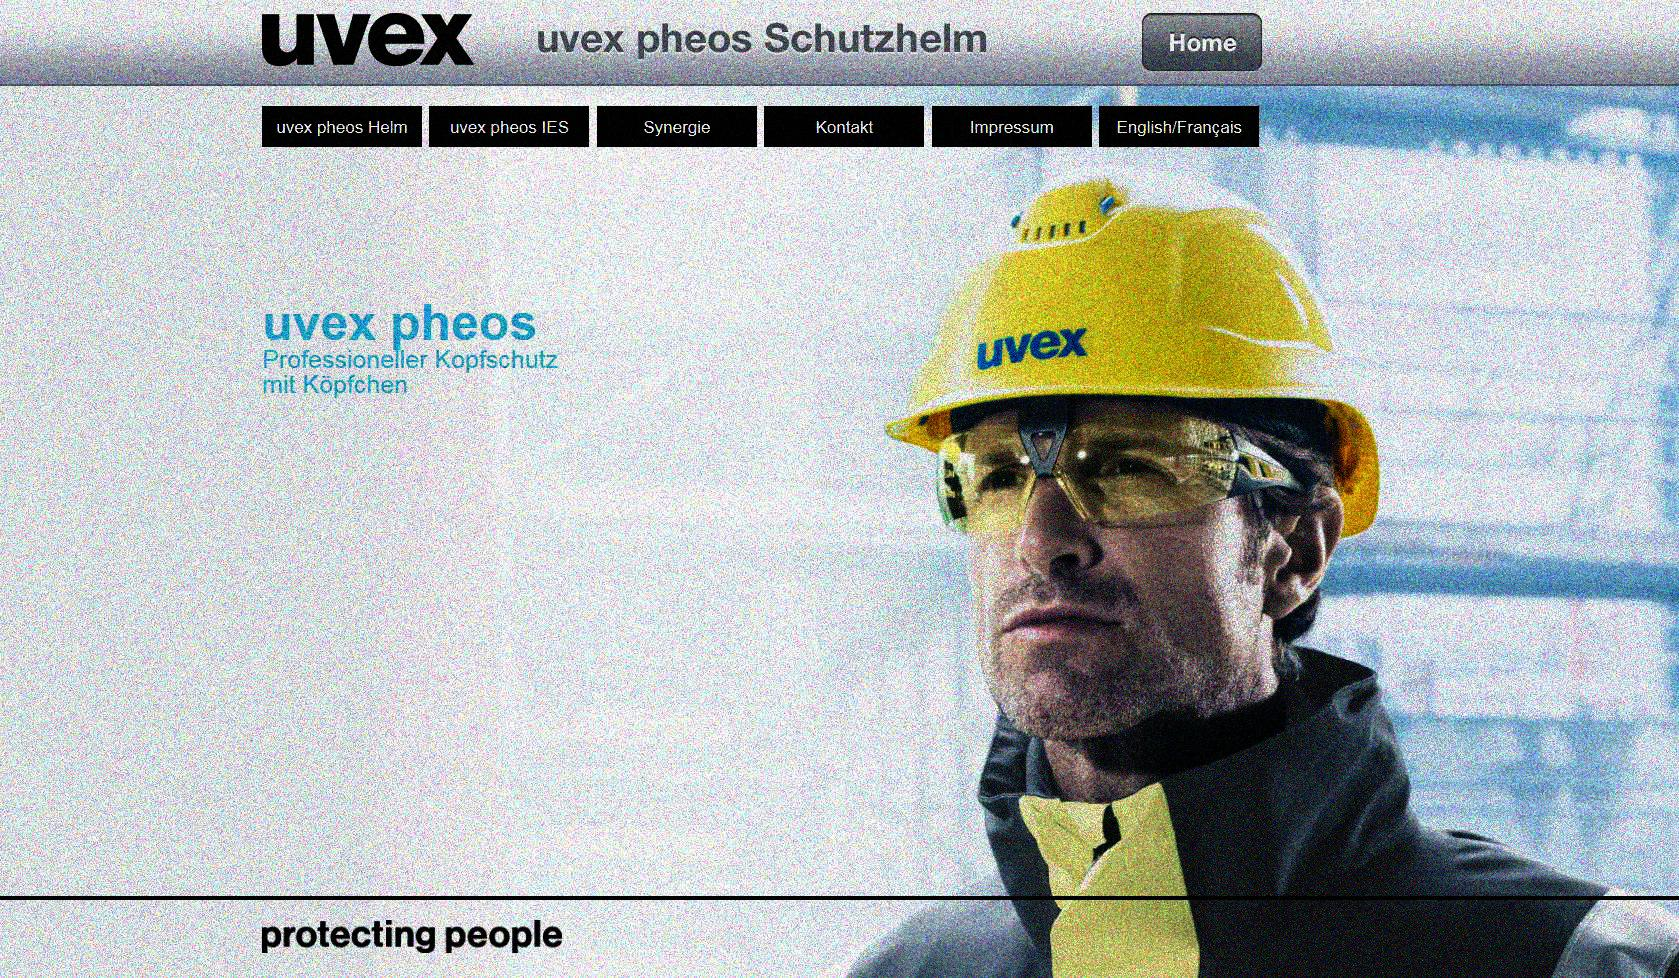helmet: (874, 165, 1389, 729)
